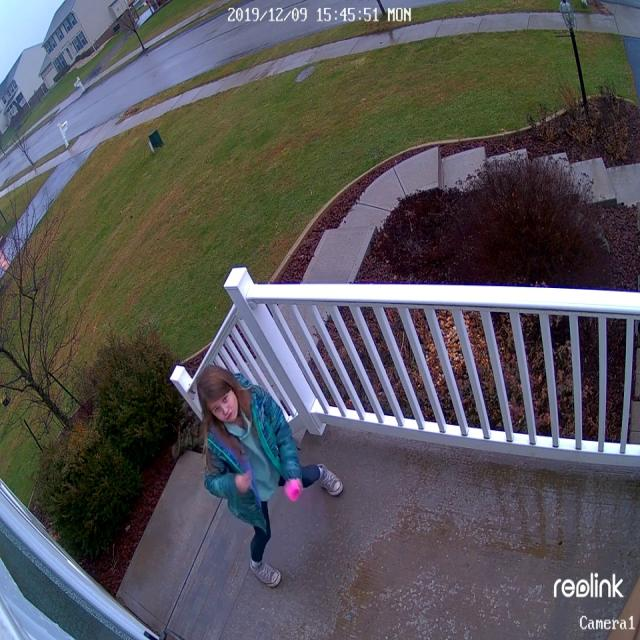child: (198, 364, 346, 594)
